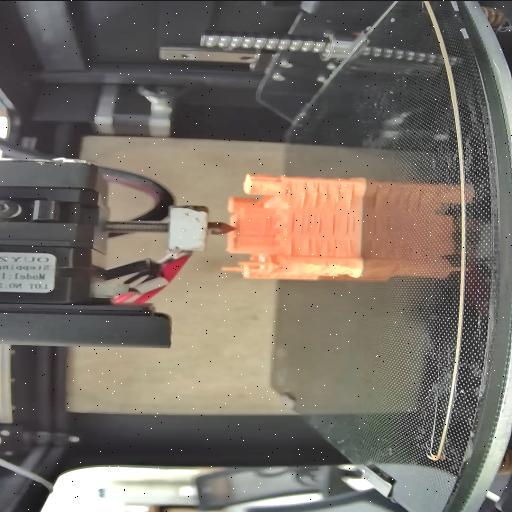cracks: (304, 180, 356, 208), (286, 210, 324, 234), (306, 236, 352, 254), (331, 211, 355, 235), (285, 236, 295, 256), (260, 214, 272, 230), (278, 185, 293, 197)
